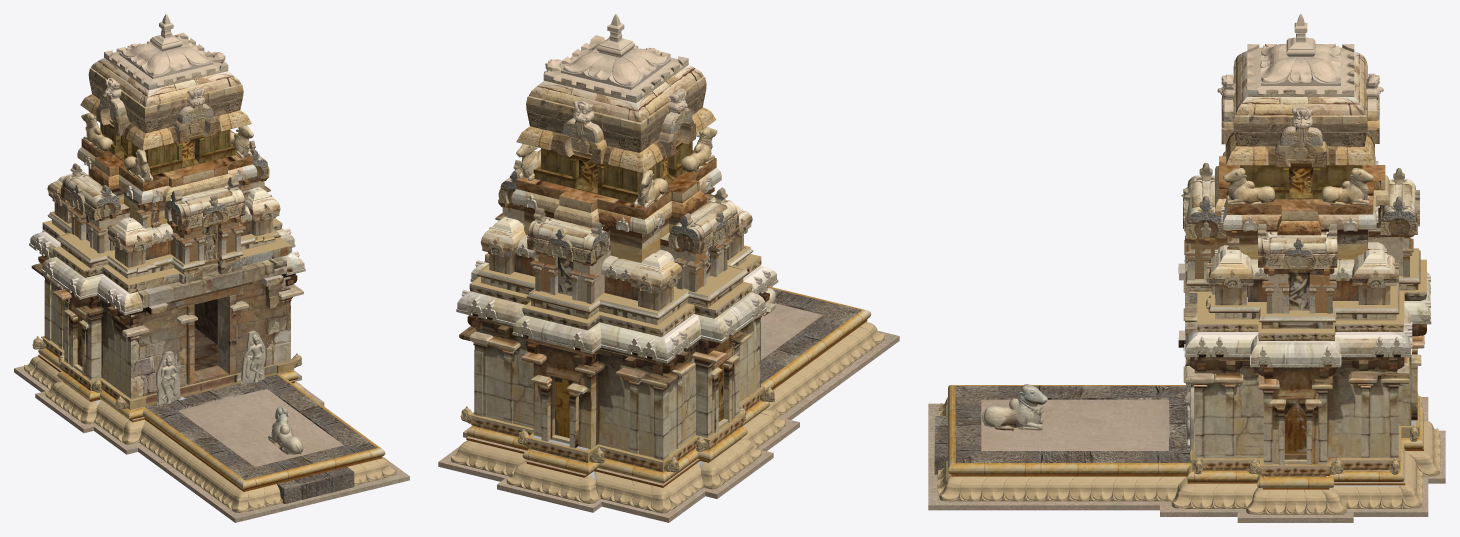
File: Temple.glb
3 views of the same model, side by side, from view 1: azimuth 30°, elevation 25°; view 2: azimuth 150°, elevation 25°; view 3: azimuth 270°, elevation 25° (orthographic). The views are drawn at different scales.
Visible parts, largest first — view 1: Temple_3D_Final_02:polySurface144, Temple_3D_Final_02:polySurfac1, Temple_3D_Final_02:polySurface140, Temple_3D_Final_02:polySurface7, Temple_3D_Final_02:polySurface148, Temple_3D_Final_02:polySurface89, Temple_3D_Final_02:polySurface111, Temple_3D_Final_02:polySurface2, Temple_3D_Final_02:polySurface137, Temple_3D_Final_02:polySurface131, Temple_3D_Final_02:polySurface135, Temple_3D_Final_02:polySurface129 (+4 smaller); view 2: Temple_3D_Final_02:polySurfac1, Temple_3D_Final_02:polySurface140, Temple_3D_Final_02:polySurface144, Temple_3D_Final_02:polySurface142, Temple_3D_Final_02:polySurface7, Temple_3D_Final_02:polySurface148, Temple_3D_Final_02:polySurface114, Temple_3D_Final_02:polySurface99, Temple_3D_Final_02:polySurface143, Temple_3D_Final_02:polySurface101, Temple_3D_Final_02:polySurface97, Temple_3D_Final_02:polySurface151 (+5 smaller); view 3: Temple_3D_Final_02:polySurface144, Temple_3D_Final_02:polySurfac1, Temple_3D_Final_02:polySurface140, Temple_3D_Final_02:polySurface7, Temple_3D_Final_02:polySurface2, Temple_3D_Final_02:polySurface145, Temple_3D_Final_02:polySurface142, Temple_3D_Final_02:polySurface97, Temple_3D_Final_02:polySurface89, Temple_3D_Final_02:polySurface108, Temple_3D_Final_02:polySurface109, Temple_3D_Final_02:polySurface107 (+7 smaller).
Part boxes in pixels (<box>): Temple_3D_Final_02:polySurface144: <box>38,276,385,489</box>; Temple_3D_Final_02:polySurfac1: <box>61,14,269,230</box>; Temple_3D_Final_02:polySurface140: <box>29,168,305,315</box>; Temple_3D_Final_02:polySurface7: <box>14,354,409,522</box>; Temple_3D_Final_02:polySurface148: <box>45,275,130,398</box>; Temple_3D_Final_02:polySurface89: <box>277,467,354,503</box>; Temple_3D_Final_02:polySurface111: <box>87,312,102,380</box>; Temple_3D_Final_02:polySurface2: <box>268,407,303,454</box>; Temple_3D_Final_02:polySurface137: <box>128,273,295,315</box>; Temple_3D_Final_02:polySurface131: <box>240,330,265,384</box>; Temple_3D_Final_02:polySurface135: <box>155,351,180,405</box>; Temple_3D_Final_02:polySurface129: <box>244,334,263,383</box>; Temple_3D_Final_02:polySurfac1: <box>498,14,738,264</box>; Temple_3D_Final_02:polySurface140: <box>456,187,778,363</box>; Temple_3D_Final_02:polySurface144: <box>466,286,871,483</box>; Temple_3D_Final_02:polySurface142: <box>469,316,662,457</box>; Temple_3D_Final_02:polySurface7: <box>438,319,899,522</box>; Temple_3D_Final_02:polySurface148: <box>663,314,760,453</box>; Temple_3D_Final_02:polySurface114: <box>694,359,712,437</box>; Temple_3D_Final_02:polySurface99: <box>650,385,669,460</box>; Temple_3D_Final_02:polySurface143: <box>555,377,572,437</box>; Temple_3D_Final_02:polySurface101: <box>525,339,595,365</box>; Temple_3D_Final_02:polySurface97: <box>472,341,487,416</box>; Temple_3D_Final_02:polySurface151: <box>498,348,514,423</box>; Temple_3D_Final_02:polySurface144: <box>948,280,1423,487</box>; Temple_3D_Final_02:polySurfac1: <box>1181,14,1419,269</box>; Temple_3D_Final_02:polySurface140: <box>1184,205,1431,367</box>; Temple_3D_Final_02:polySurface7: <box>928,397,1445,522</box>; Temple_3D_Final_02:polySurface2: <box>982,384,1047,430</box>; Temple_3D_Final_02:polySurface145: <box>1284,403,1306,453</box>; Temple_3D_Final_02:polySurface142: <box>1397,335,1424,425</box>; Temple_3D_Final_02:polySurface97: <box>1386,383,1399,458</box>; Temple_3D_Final_02:polySurface89: <box>934,416,947,474</box>; Temple_3D_Final_02:polySurface108: <box>1315,390,1328,464</box>; Temple_3D_Final_02:polySurface109: <box>1262,390,1275,464</box>; Temple_3D_Final_02:polySurface107: <box>1257,364,1335,378</box>.
Bounding box in the file's own units: 1.83 × 3 × 3.16.
Materials: 65 (56 with a texture image).
